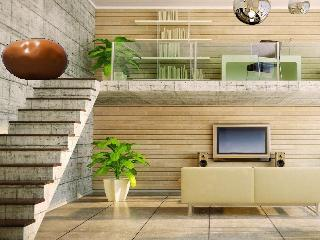potato: (1, 36, 69, 82)
